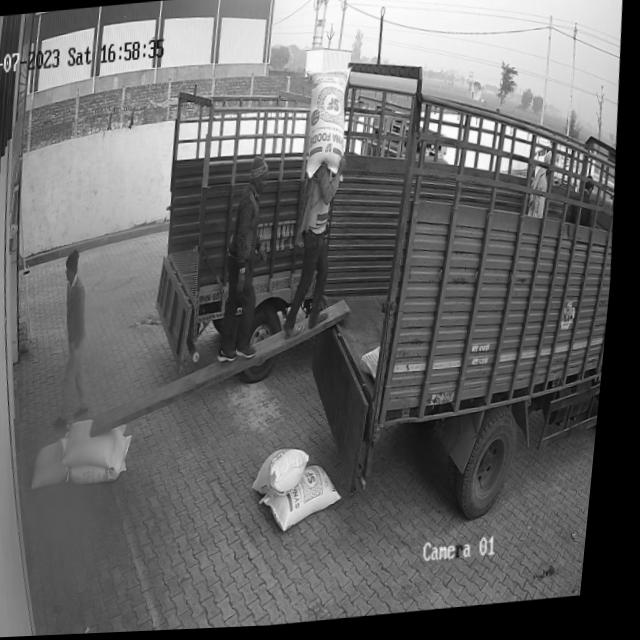sack: (266, 464, 355, 536), (302, 70, 357, 183), (69, 419, 137, 476), (73, 436, 143, 487), (260, 449, 321, 503), (38, 436, 82, 492)
